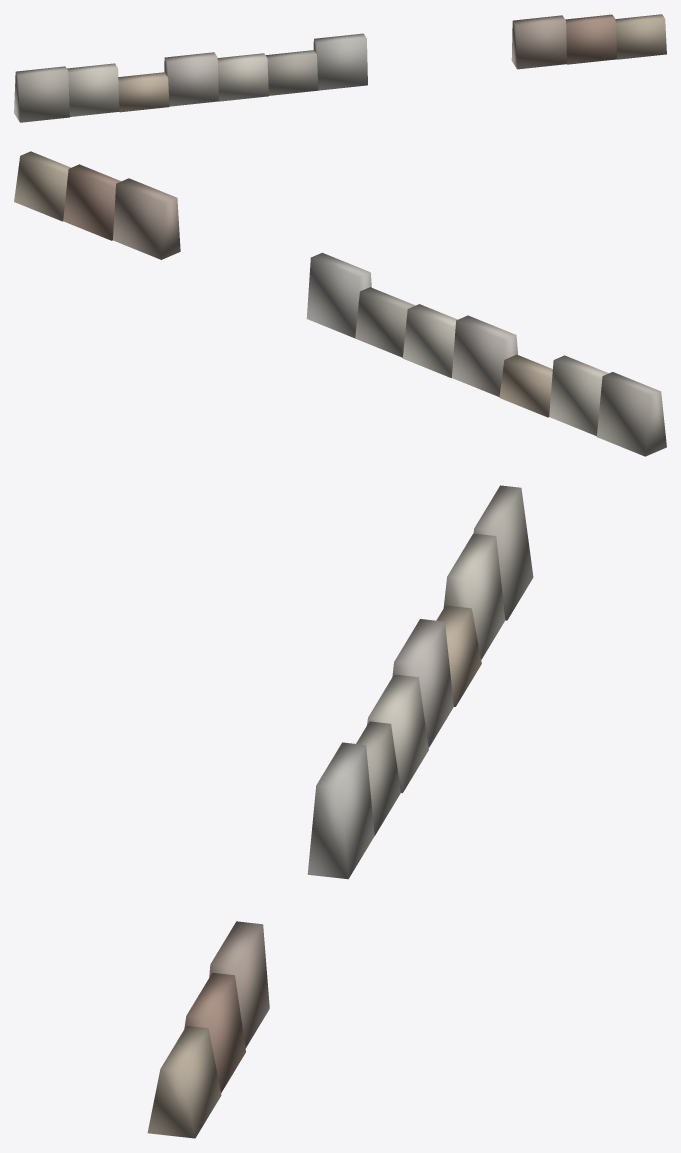
Rendered from farm_8_12_collision.glb.
The picture shows the model from 3 angles, top to bottom: view 1: azimuth 30°, elevation 25°; view 2: azimuth 150°, elevation 25°; view 3: azimuth 270°, elevation 25°; orthographic projection. The views are drawn at different scales.
Visible parts, largest first — view 1: geometry_0; view 2: geometry_0; view 3: geometry_0.
Boxes of the visible parts, bbox=[...] form: geometry_0: bbox=[14, 14, 666, 122]; geometry_0: bbox=[14, 151, 666, 456]; geometry_0: bbox=[147, 485, 533, 1138].
Bounding box in the file's own units: 19.54 × 1.66 × 5.76.
